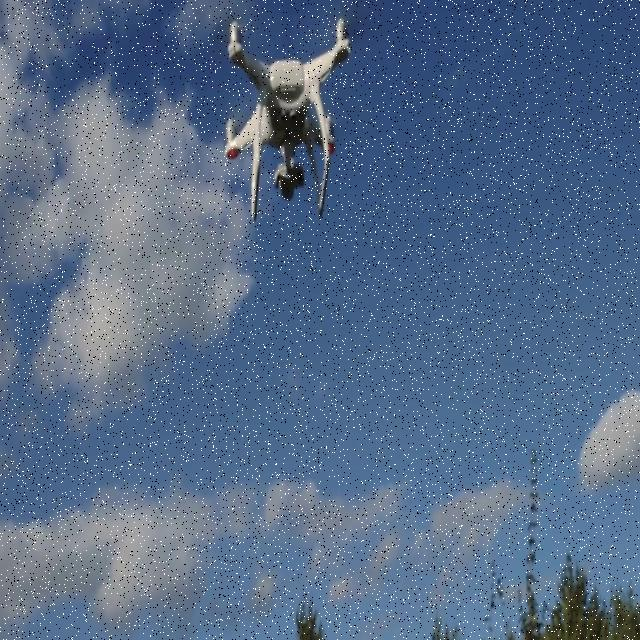UAV: (224, 17, 360, 222)
